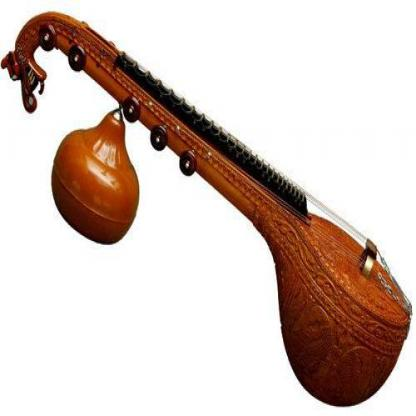Veena: (92, 41, 406, 328)
